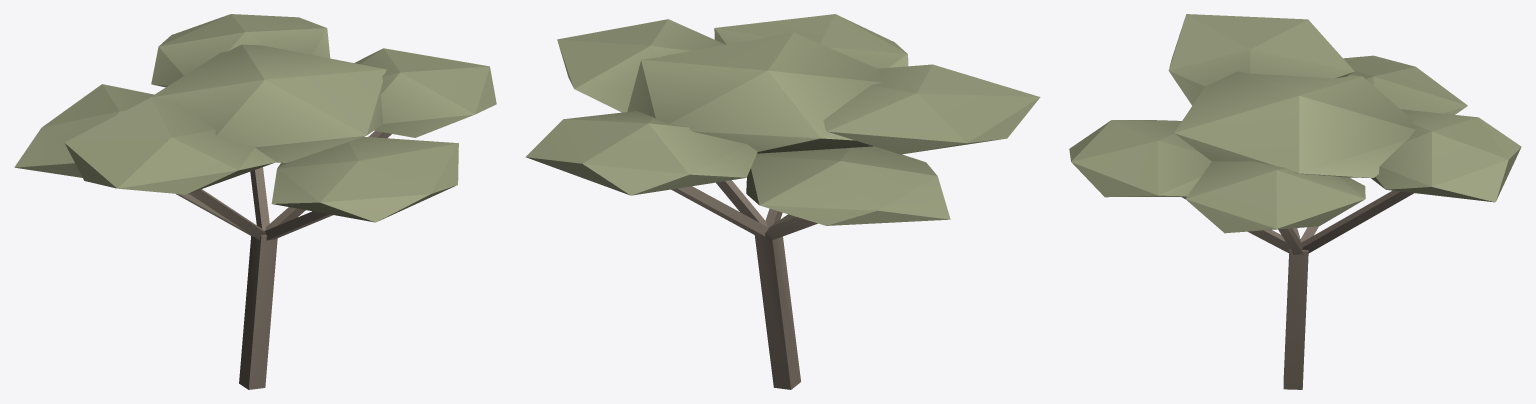
File: mil_acacia.glb
The picture shows the model from 3 angles, left to right: view 1: azimuth 30°, elevation 25°; view 2: azimuth 150°, elevation 25°; view 3: azimuth 270°, elevation 25°; orthographic projection. The views are drawn at different scales.
Parts seen in each view (by area): view 1: mil_acacia; view 2: mil_acacia; view 3: mil_acacia.
Boxes of the visible parts, <box> form: mil_acacia: <box>14,14,496,389</box>; mil_acacia: <box>525,14,1040,389</box>; mil_acacia: <box>1069,14,1521,389</box>.
Bounding box in the file's own units: 8.16 × 5.5 × 7.57.
